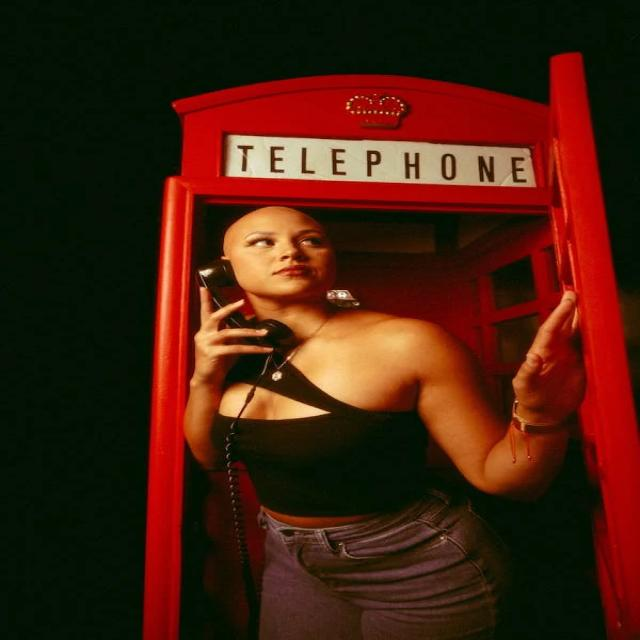Real human 2: (165, 194, 601, 640)
